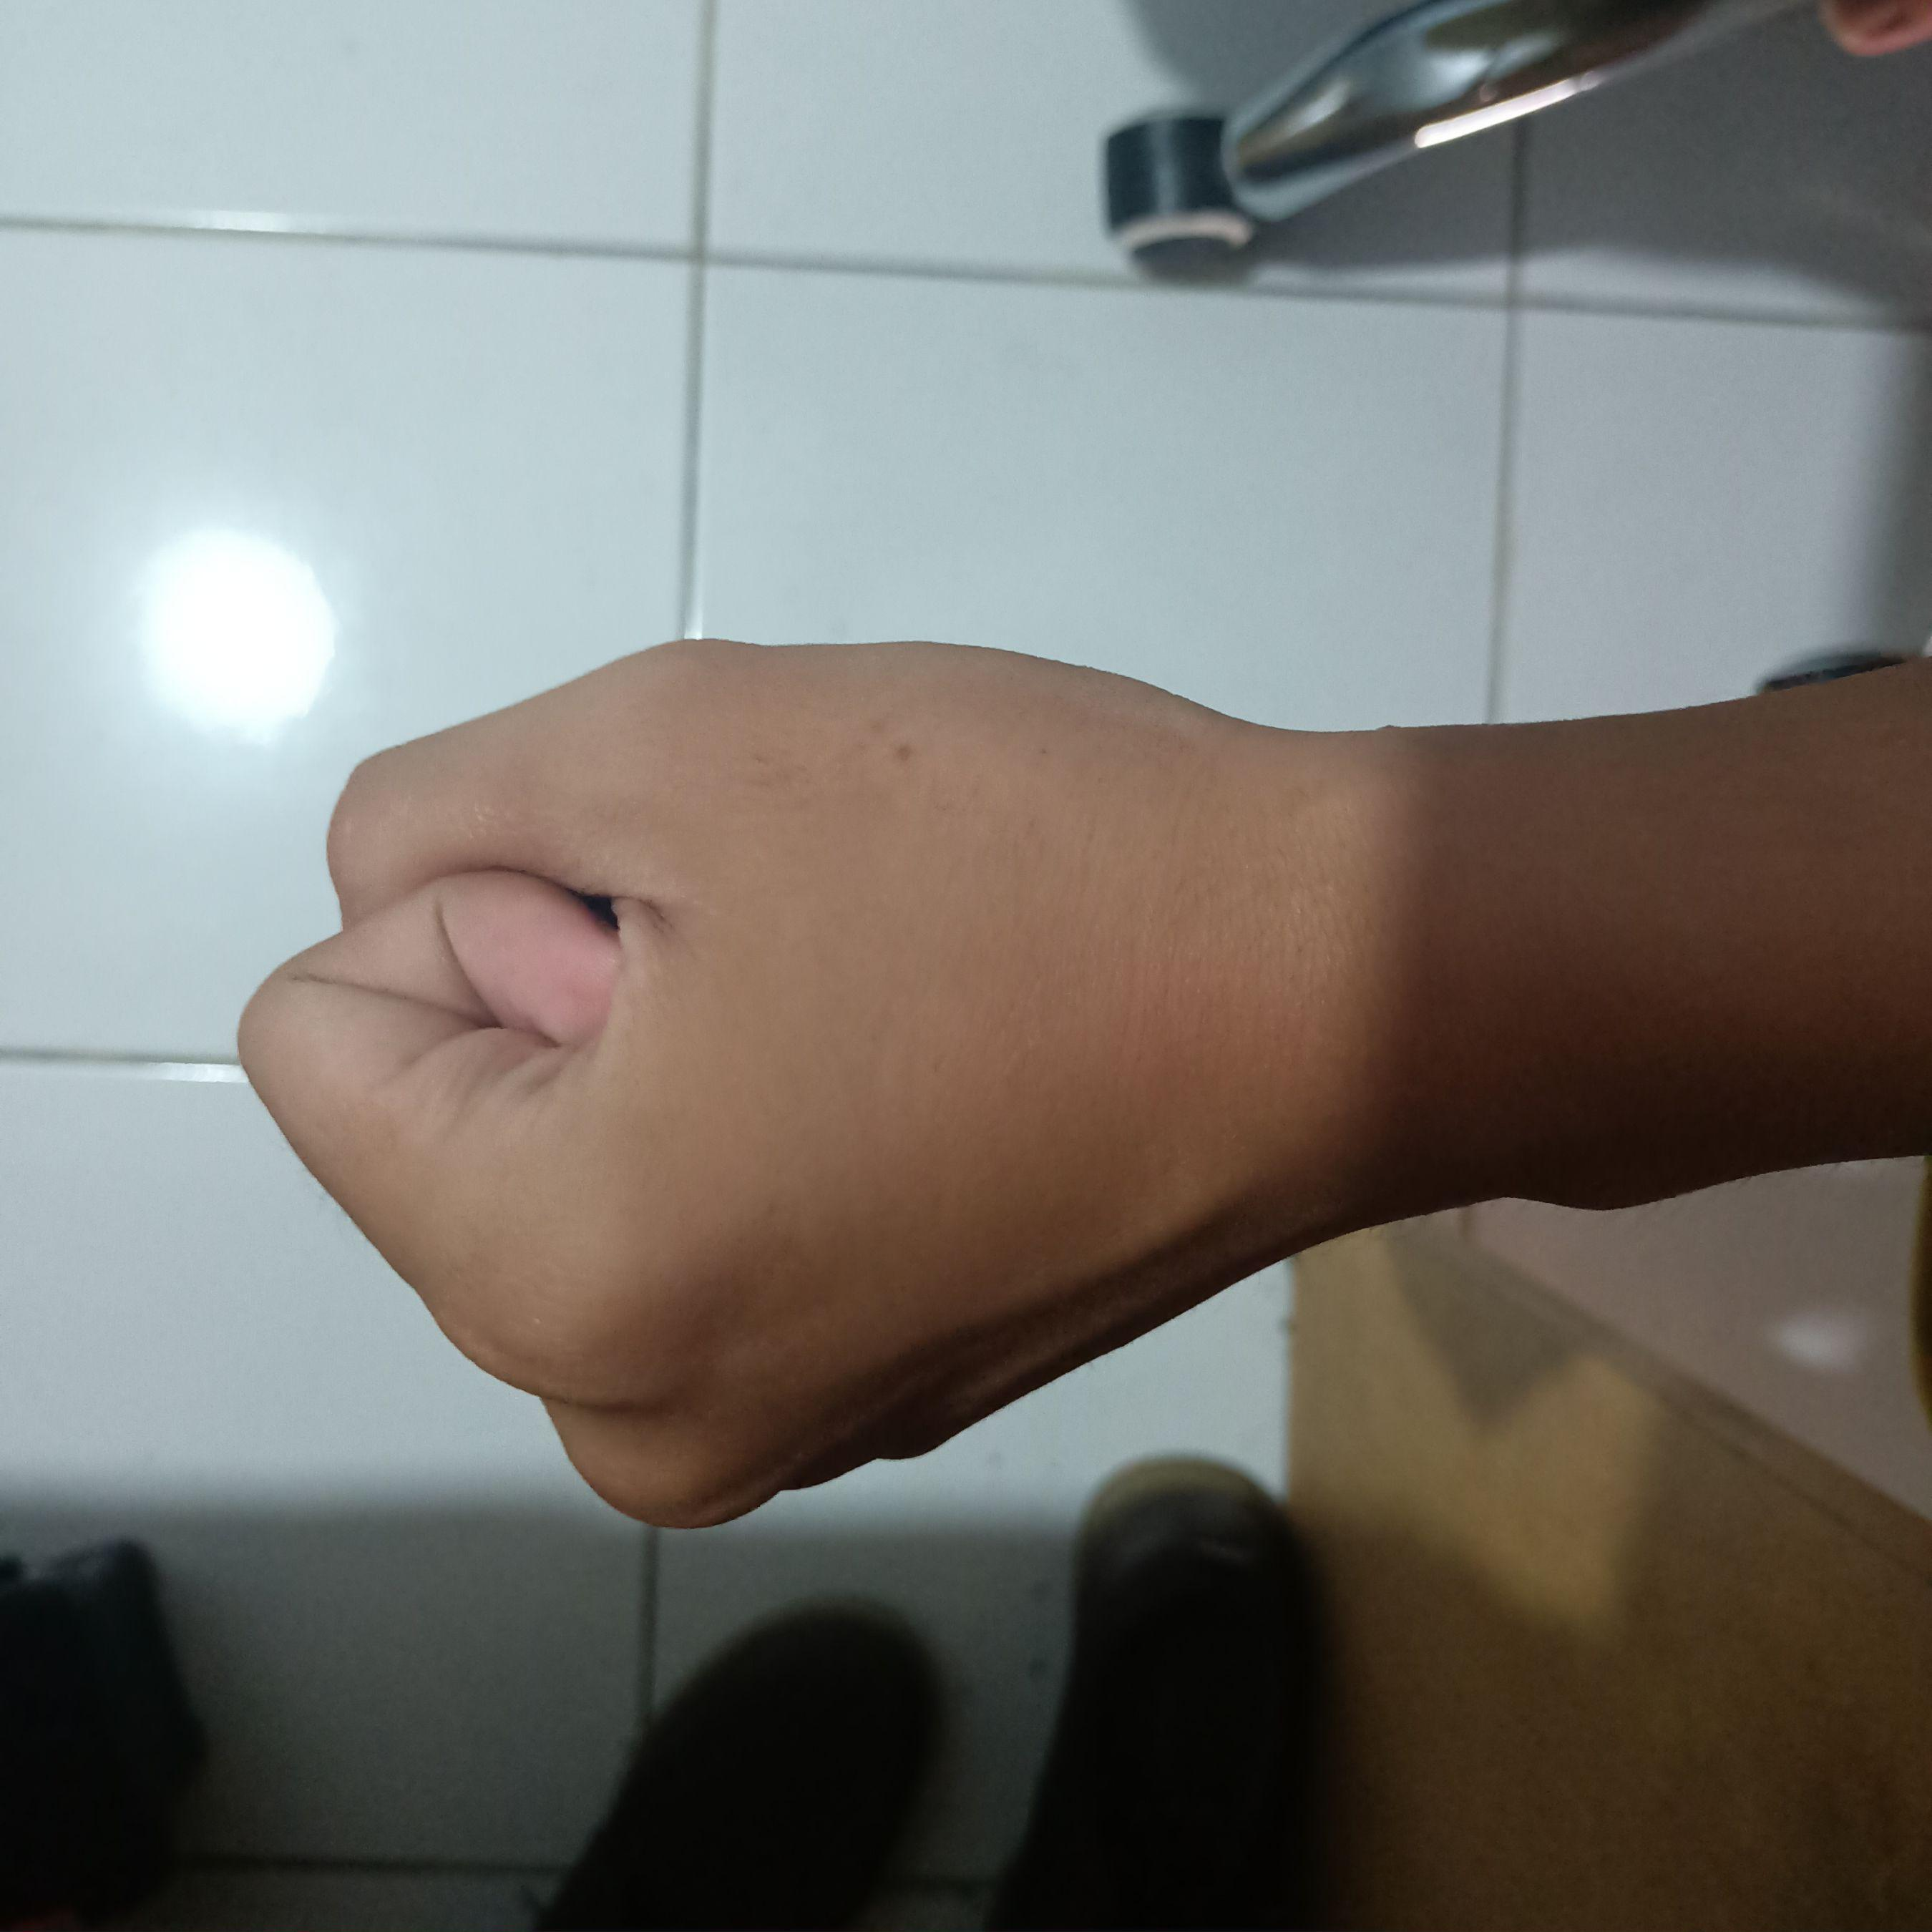rock: (184, 616, 1408, 1568)
